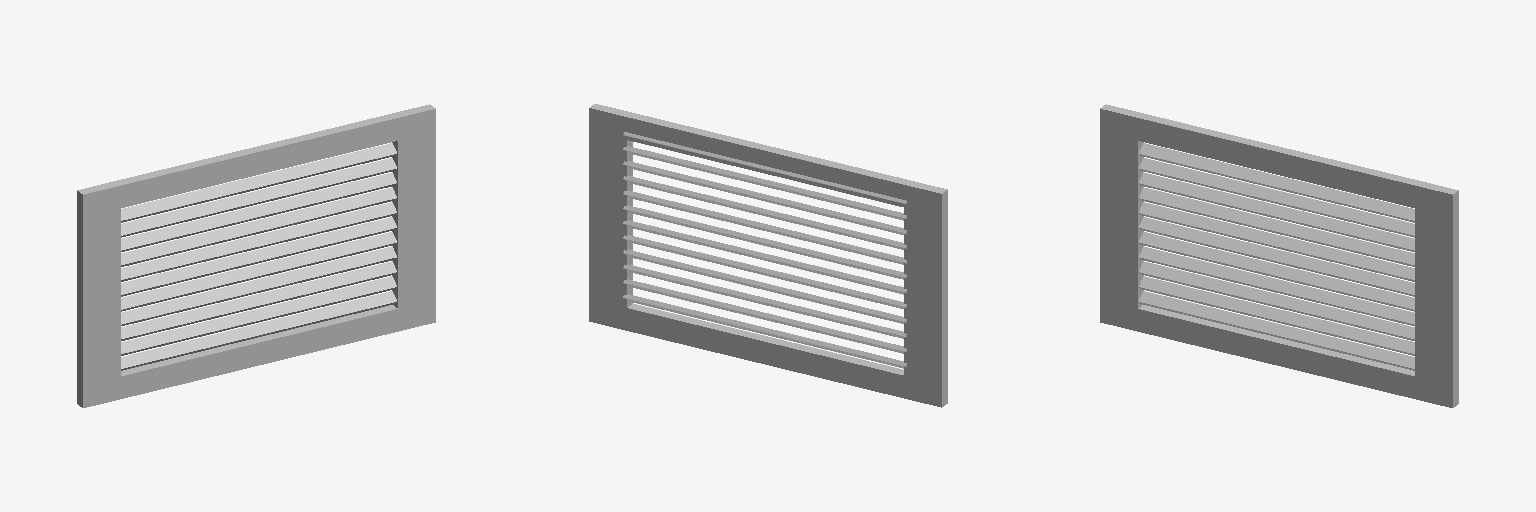
3 views of the same model, side by side, from view 1: azimuth 30°, elevation 25°; view 2: azimuth 150°, elevation 25°; view 3: azimuth 330°, elevation 25° (orthographic).
Parts seen in each view (by area): view 1: gd; view 2: gd; view 3: gd.
Boxes of the visible parts, x1=… form: gd: x1=77, y1=104, x2=435, y2=407; gd: x1=589, y1=104, x2=947, y2=407; gd: x1=1100, y1=104, x2=1458, y2=407.
Size of the model in its own units: 6.18 by 3.58 by 0.2151.